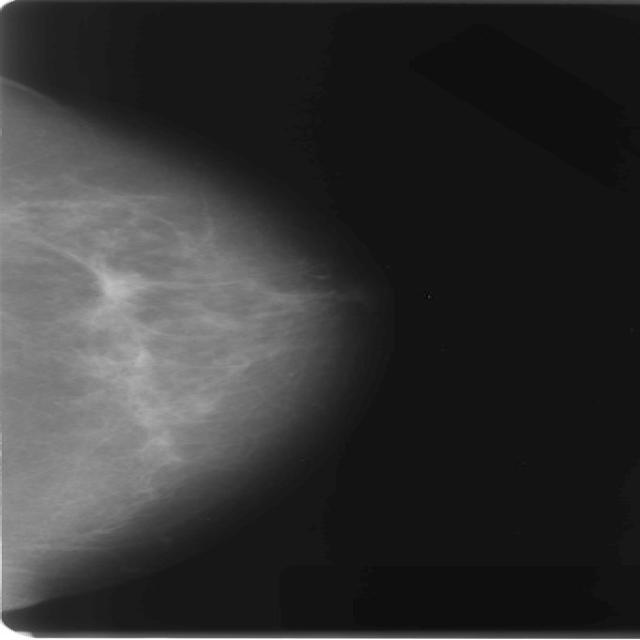tumour: (88, 266, 145, 306)
